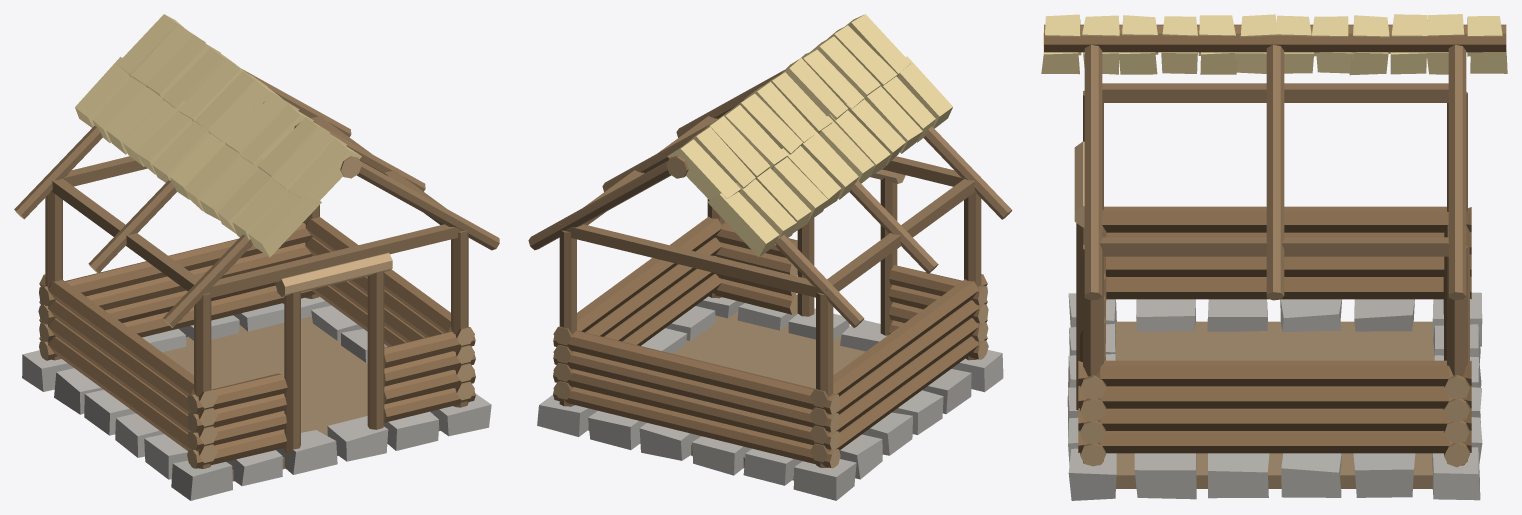
The model's file is building_oven_house_half.glb.
The picture shows the model from 3 angles, left to right: view 1: azimuth 30°, elevation 25°; view 2: azimuth 150°, elevation 25°; view 3: azimuth 270°, elevation 25°; orthographic projection. The views are drawn at different scales.
Parts seen in each view (by area): view 1: building_oven_house_half; view 2: building_oven_house_half; view 3: building_oven_house_half.
Boxes of the visible parts, bbox=[...] form: building_oven_house_half: bbox=[14, 14, 499, 500]; building_oven_house_half: bbox=[528, 14, 1012, 500]; building_oven_house_half: bbox=[1041, 14, 1507, 500].
Bounding box in the file's own units: 3.85 × 3.56 × 3.79.
